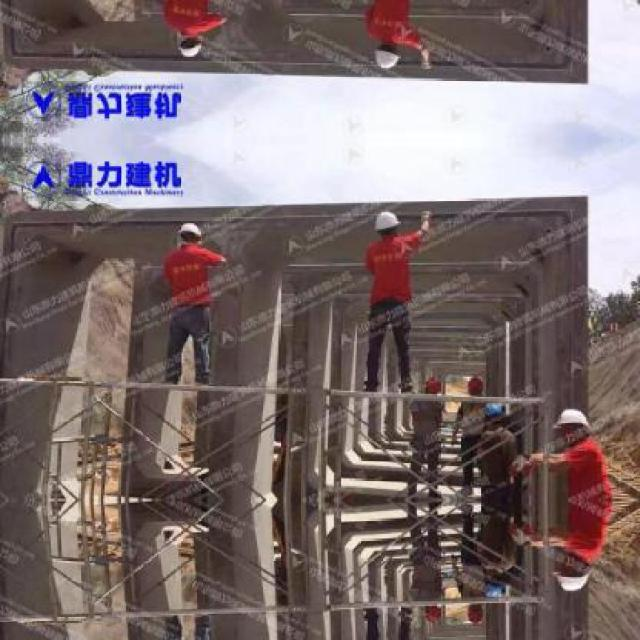helmet: (476, 399, 512, 438), (476, 559, 512, 598), (554, 404, 588, 442), (554, 556, 588, 592), (372, 208, 403, 247), (372, 30, 403, 68), (421, 368, 444, 401), (421, 596, 444, 629), (172, 220, 200, 246), (172, 32, 200, 58), (461, 374, 484, 398), (461, 599, 484, 623)
